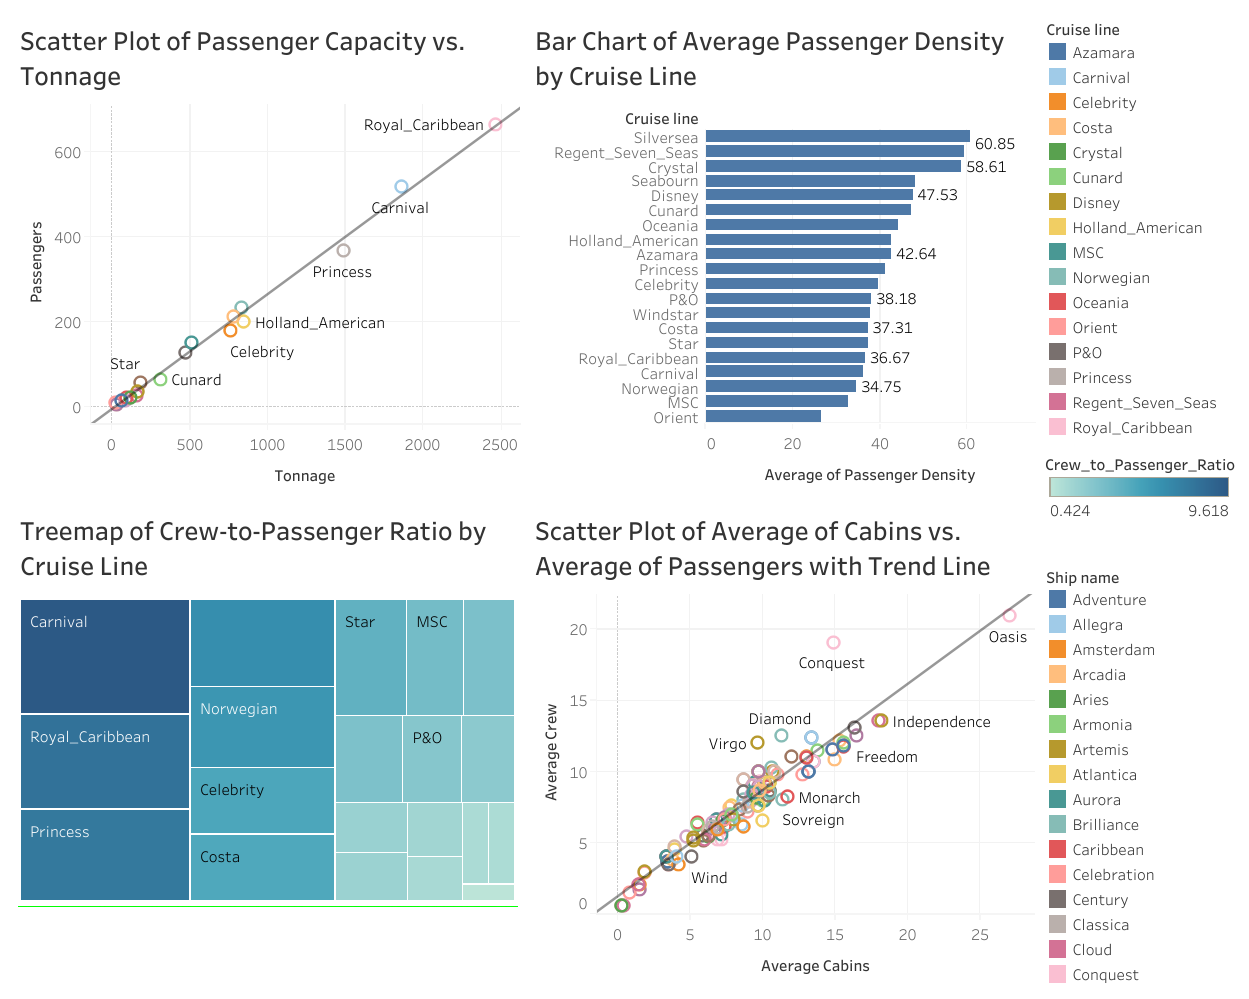

What the dashboard file says about the page in this screenshot:
{"tool":"tableau","page":{"name":"dashboard","canvas":[1000,800],"ordinal":0},"visuals":[{"type":"worksheet","title":"Plot1","mark":"Automatic","rows":["passengers"],"cols":["Tonnage"],"box":[8,8,412,392]},{"type":"worksheet","title":"Plot2","mark":"Automatic","rows":["Cruise_line"],"cols":["passenger_density"],"box":[420,8,412,392]},{"type":"legend","title":"Plot1","param":"[federated.1bl62780rnzusz17seyhf06qc4n0].[none:Cruise_line:nk]","box":[832,8,160,346]},{"type":"legend","title":"Plot3","param":"[federated.1bl62780rnzusz17seyhf06qc4n0].[sum:Calculation_1055533710680081:qk]","box":[832,354,160,68]},{"type":"worksheet","title":"Plot3","mark":"Automatic","box":[8,400,412,392]},{"type":"worksheet","title":"Plot4","mark":"Automatic","rows":["crew"],"cols":["cabins"],"box":[420,400,412,392]},{"type":"legend","title":"Plot3","param":"[federated.1bl62780rnzusz17seyhf06qc4n0].[sum:Calculation_1055533710680081:qk]","box":[832,422,160,24]},{"type":"legend","title":"Plot4","param":"[federated.1bl62780rnzusz17seyhf06qc4n0].[none:Ship_name:nk]","box":[832,446,160,346]}]}

Visuals, with their boxes in screenshot pixels (x1, y1, x2, y2), scaled from the page's 1000x800 canvas onto the 1249x999 screenshot:
"Plot1" worksheet: locate(10, 10, 525, 500)
"Plot2" worksheet: locate(525, 10, 1039, 500)
"Plot1" legend: locate(1039, 10, 1239, 442)
"Plot3" legend: locate(1039, 442, 1239, 527)
"Plot3" worksheet: locate(10, 500, 525, 989)
"Plot4" worksheet: locate(525, 500, 1039, 989)
"Plot3" legend: locate(1039, 527, 1239, 557)
"Plot4" legend: locate(1039, 557, 1239, 989)
